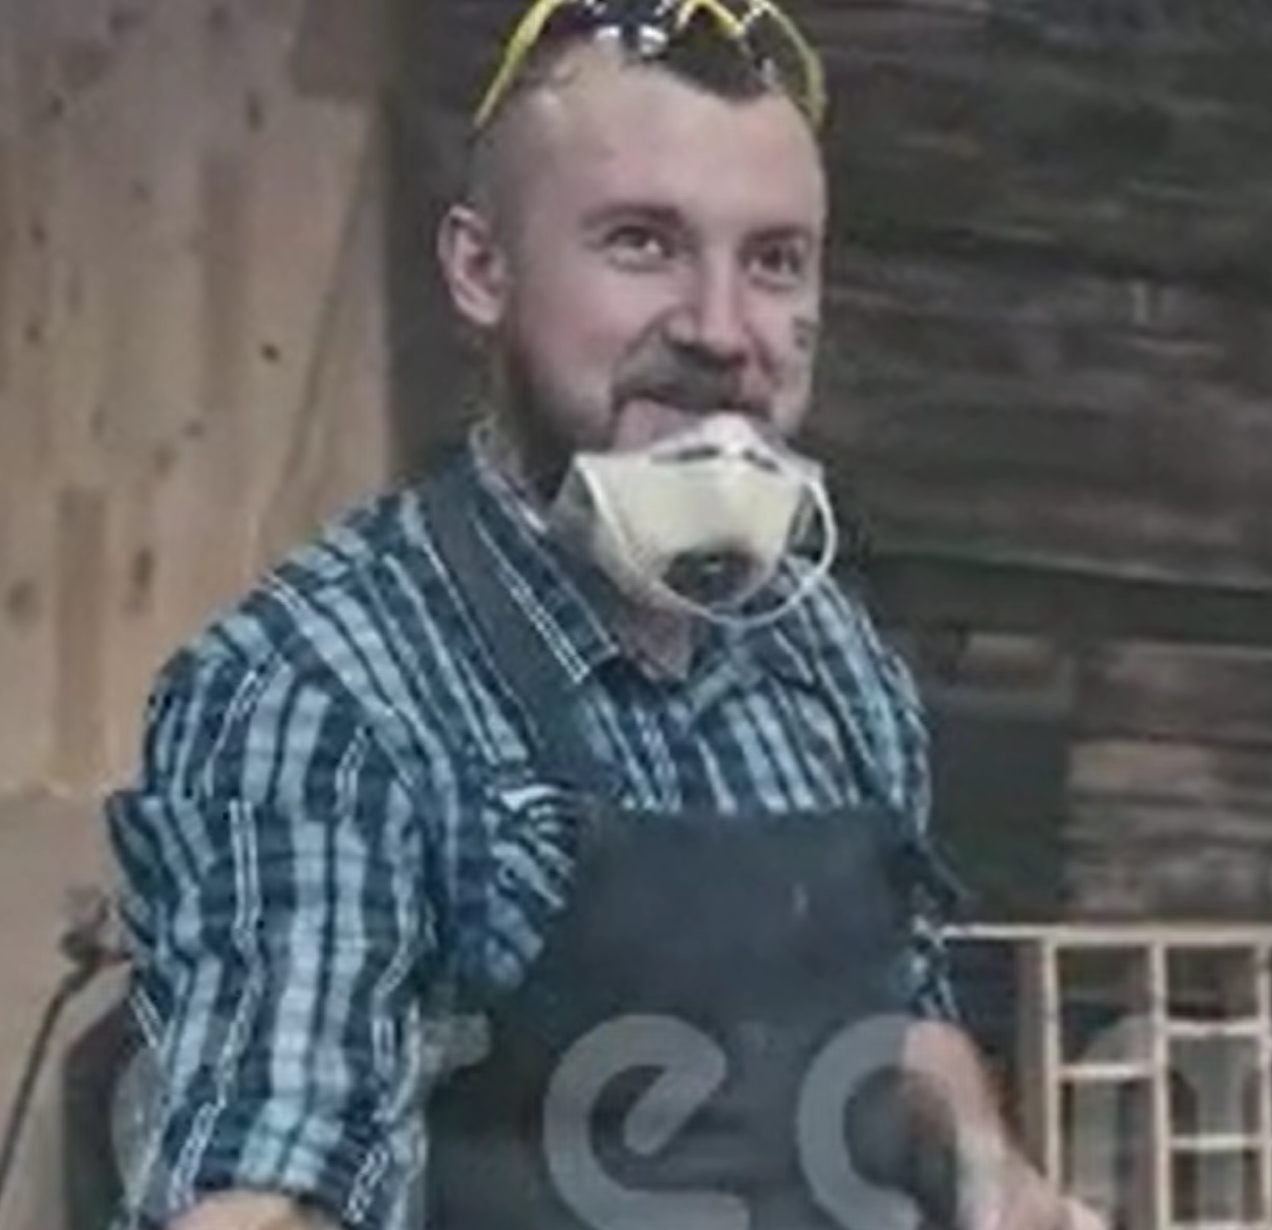mask_weared_incorrect: (436, 131, 843, 631)
